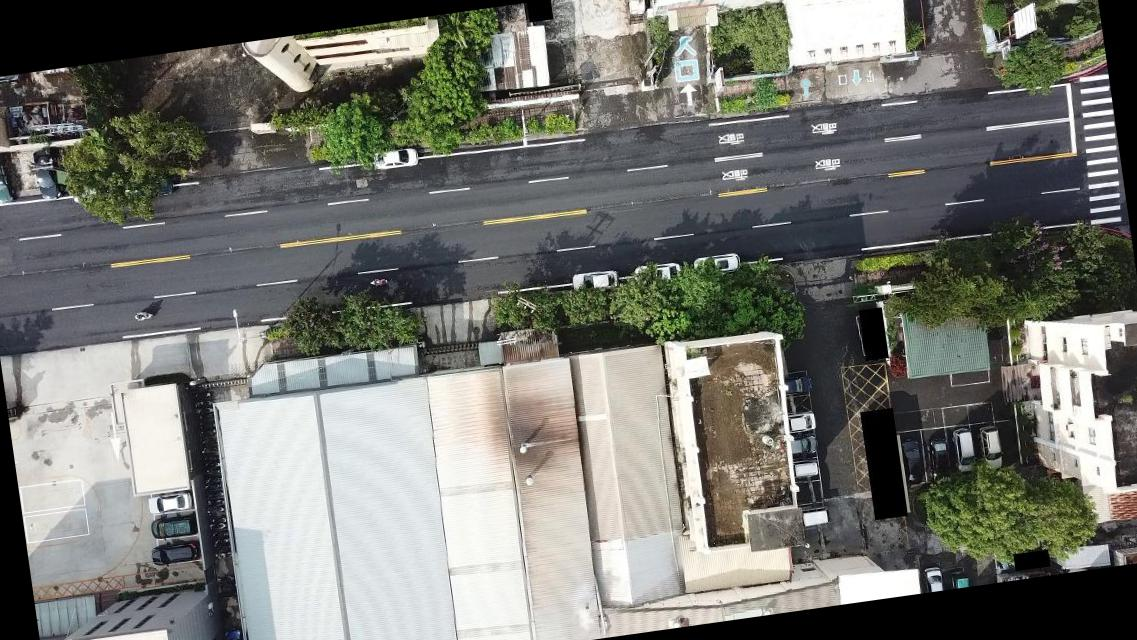vehicle: (32, 150, 62, 206), (147, 538, 202, 568), (630, 262, 682, 292), (150, 514, 197, 543), (926, 434, 953, 484), (213, 578, 240, 628), (898, 438, 925, 486), (146, 489, 194, 515), (570, 268, 618, 294), (978, 426, 1003, 474), (692, 254, 739, 279), (370, 146, 418, 170), (951, 429, 976, 474), (0, 154, 15, 206), (785, 410, 817, 434), (801, 504, 830, 527), (790, 434, 818, 456), (784, 376, 814, 396), (921, 568, 944, 592), (792, 461, 818, 480), (949, 569, 969, 588), (221, 625, 246, 639)
